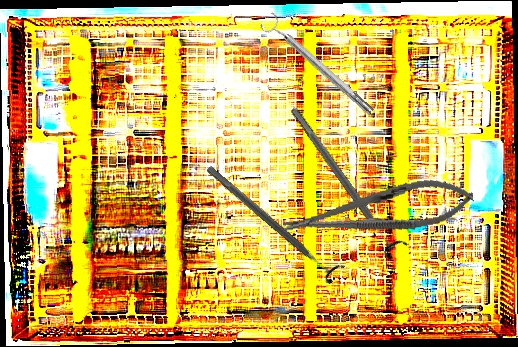Fixation Ring: (281, 100, 410, 262), (200, 158, 346, 286), (258, 10, 379, 122)
Needle Holder: (279, 171, 477, 250)
